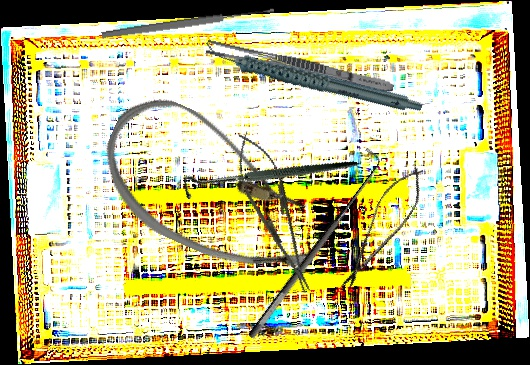Cannula: (82, 83, 349, 296)
Dressing Forceps: (204, 38, 396, 97)
Handpiece: (202, 0, 424, 155)
Hook Surgical: (233, 145, 391, 341), (177, 106, 360, 252)
Micro Scissor: (331, 157, 435, 299)
Needle Holder: (223, 125, 326, 301)
Surgical Spoon: (101, 5, 275, 41)
